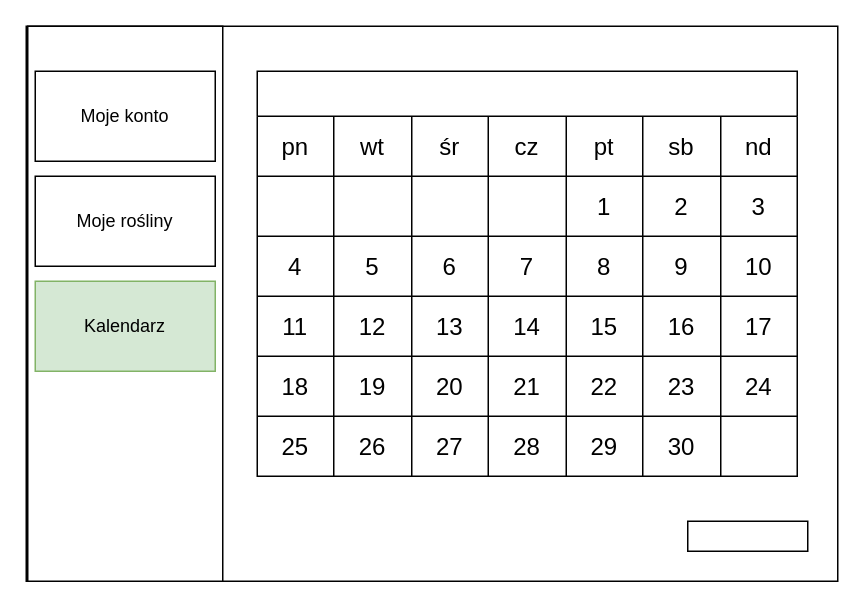
Some shapes in this 864 by 608 pixel diagram are drawn without their labels. The box of each missing label's shape, as (x1, y1, x2, y2) in pixels:
Wrzesień: (256, 70, 797, 476)
Wyloguj mnie: (686, 520, 808, 551)
